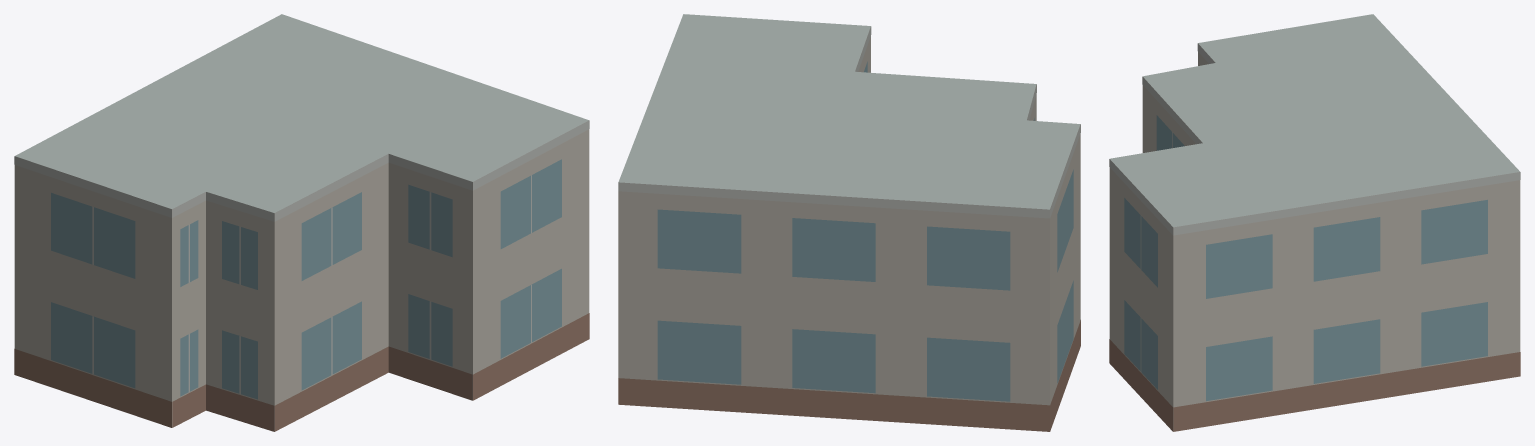
Rendered from survey-upis-32609364.glb.
3 renders of one model, left to right at view 1: azimuth 30°, elevation 25°; view 2: azimuth 150°, elevation 25°; view 3: azimuth 270°, elevation 25°, orthographic. The views are drawn at different scales.
Visible parts, largest first — view 1: survey-upis-32609364.tmp; view 2: survey-upis-32609364.tmp; view 3: survey-upis-32609364.tmp.
Boxes of the visible parts, x1,y1,x2,y2 form: survey-upis-32609364.tmp: (14,14,589,431); survey-upis-32609364.tmp: (618,14,1080,431); survey-upis-32609364.tmp: (1109,14,1520,431).
Size of the model in its own units: 13.66 by 6.1 by 11.12.
